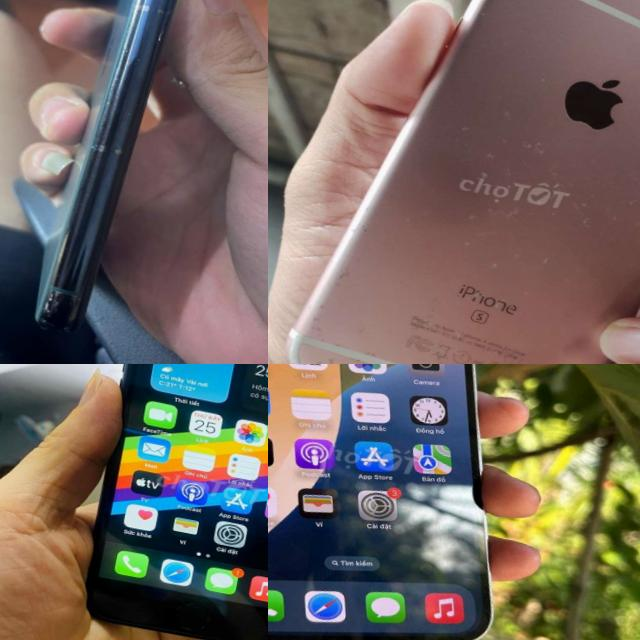gen_14: (268, 364, 575, 640)
gen_6: (289, 0, 640, 364)
gen_7_8: (61, 364, 268, 640)
gen_x_xs: (25, 0, 241, 347)
scratch: (443, 192, 605, 316), (298, 299, 418, 364), (564, 167, 640, 252), (397, 343, 546, 364), (513, 132, 569, 176), (519, 0, 623, 20), (150, 0, 180, 52), (493, 92, 531, 132), (88, 133, 132, 166), (116, 36, 147, 66)
